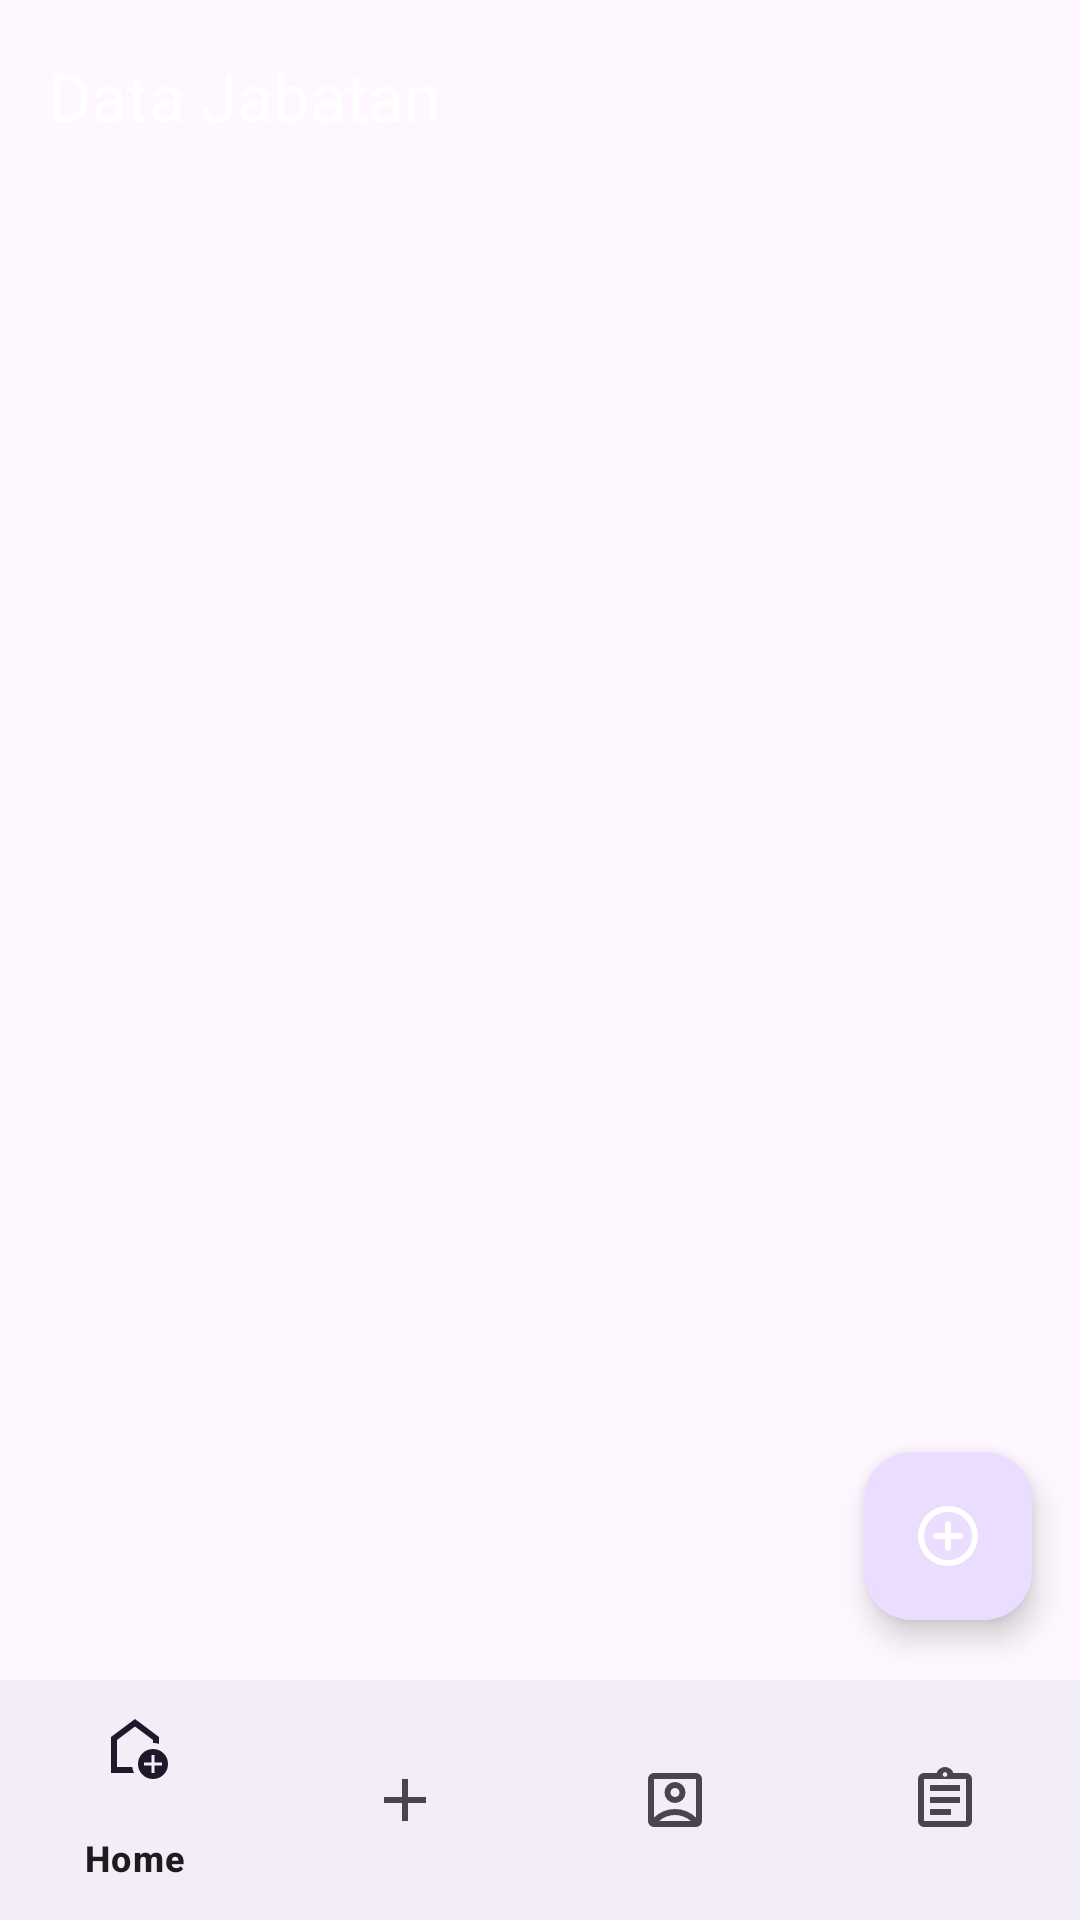

Screen size 1080px x 1920px. Icon name, then its center in pixels as (x,y):
Tambah Jabatan: (948,1536)
